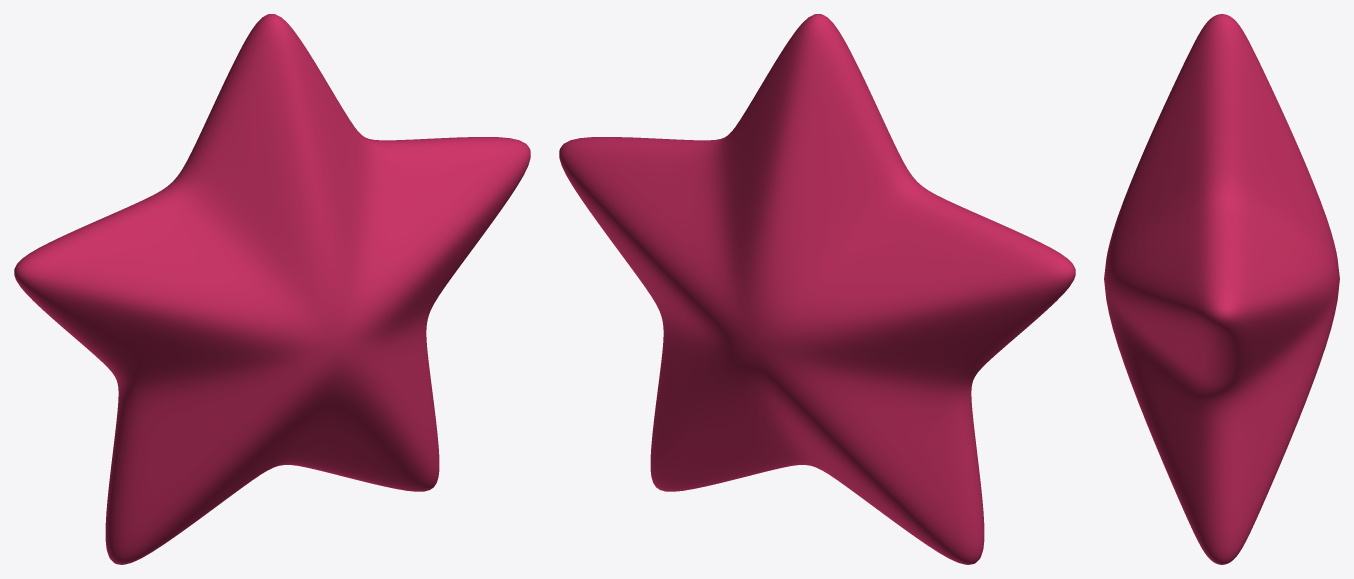
Rendered from star.fbx.
3 renders of one model, left to right at view 1: azimuth 30°, elevation 25°; view 2: azimuth 150°, elevation 25°; view 3: azimuth 270°, elevation 25°, orthographic. The views are drawn at different scales.
Visible parts, largest first — view 1: Star; view 2: Star; view 3: Star.
Boxes of the visible parts, x1=… form: Star: x1=14, y1=14, x2=530, y2=564; Star: x1=559, y1=14, x2=1075, y2=564; Star: x1=1104, y1=14, x2=1339, y2=564.
Bounding box in the file's own units: 198 × 189 × 84.1.
